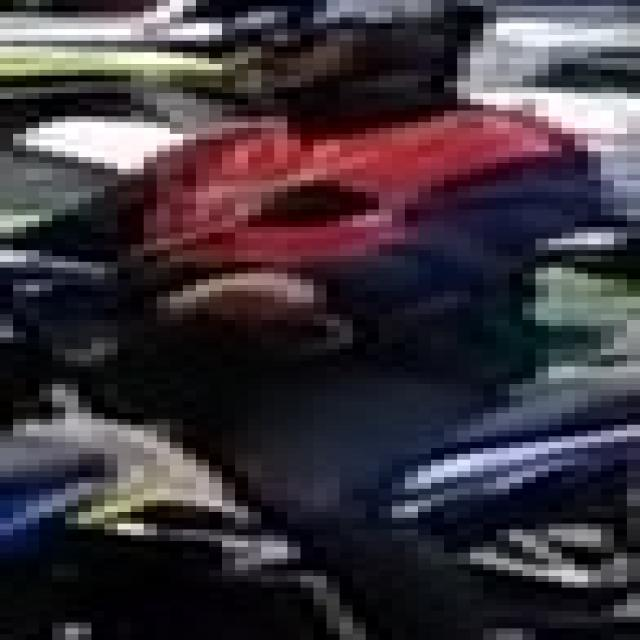door: (0, 0, 627, 634)
helmet: (143, 0, 483, 116)
